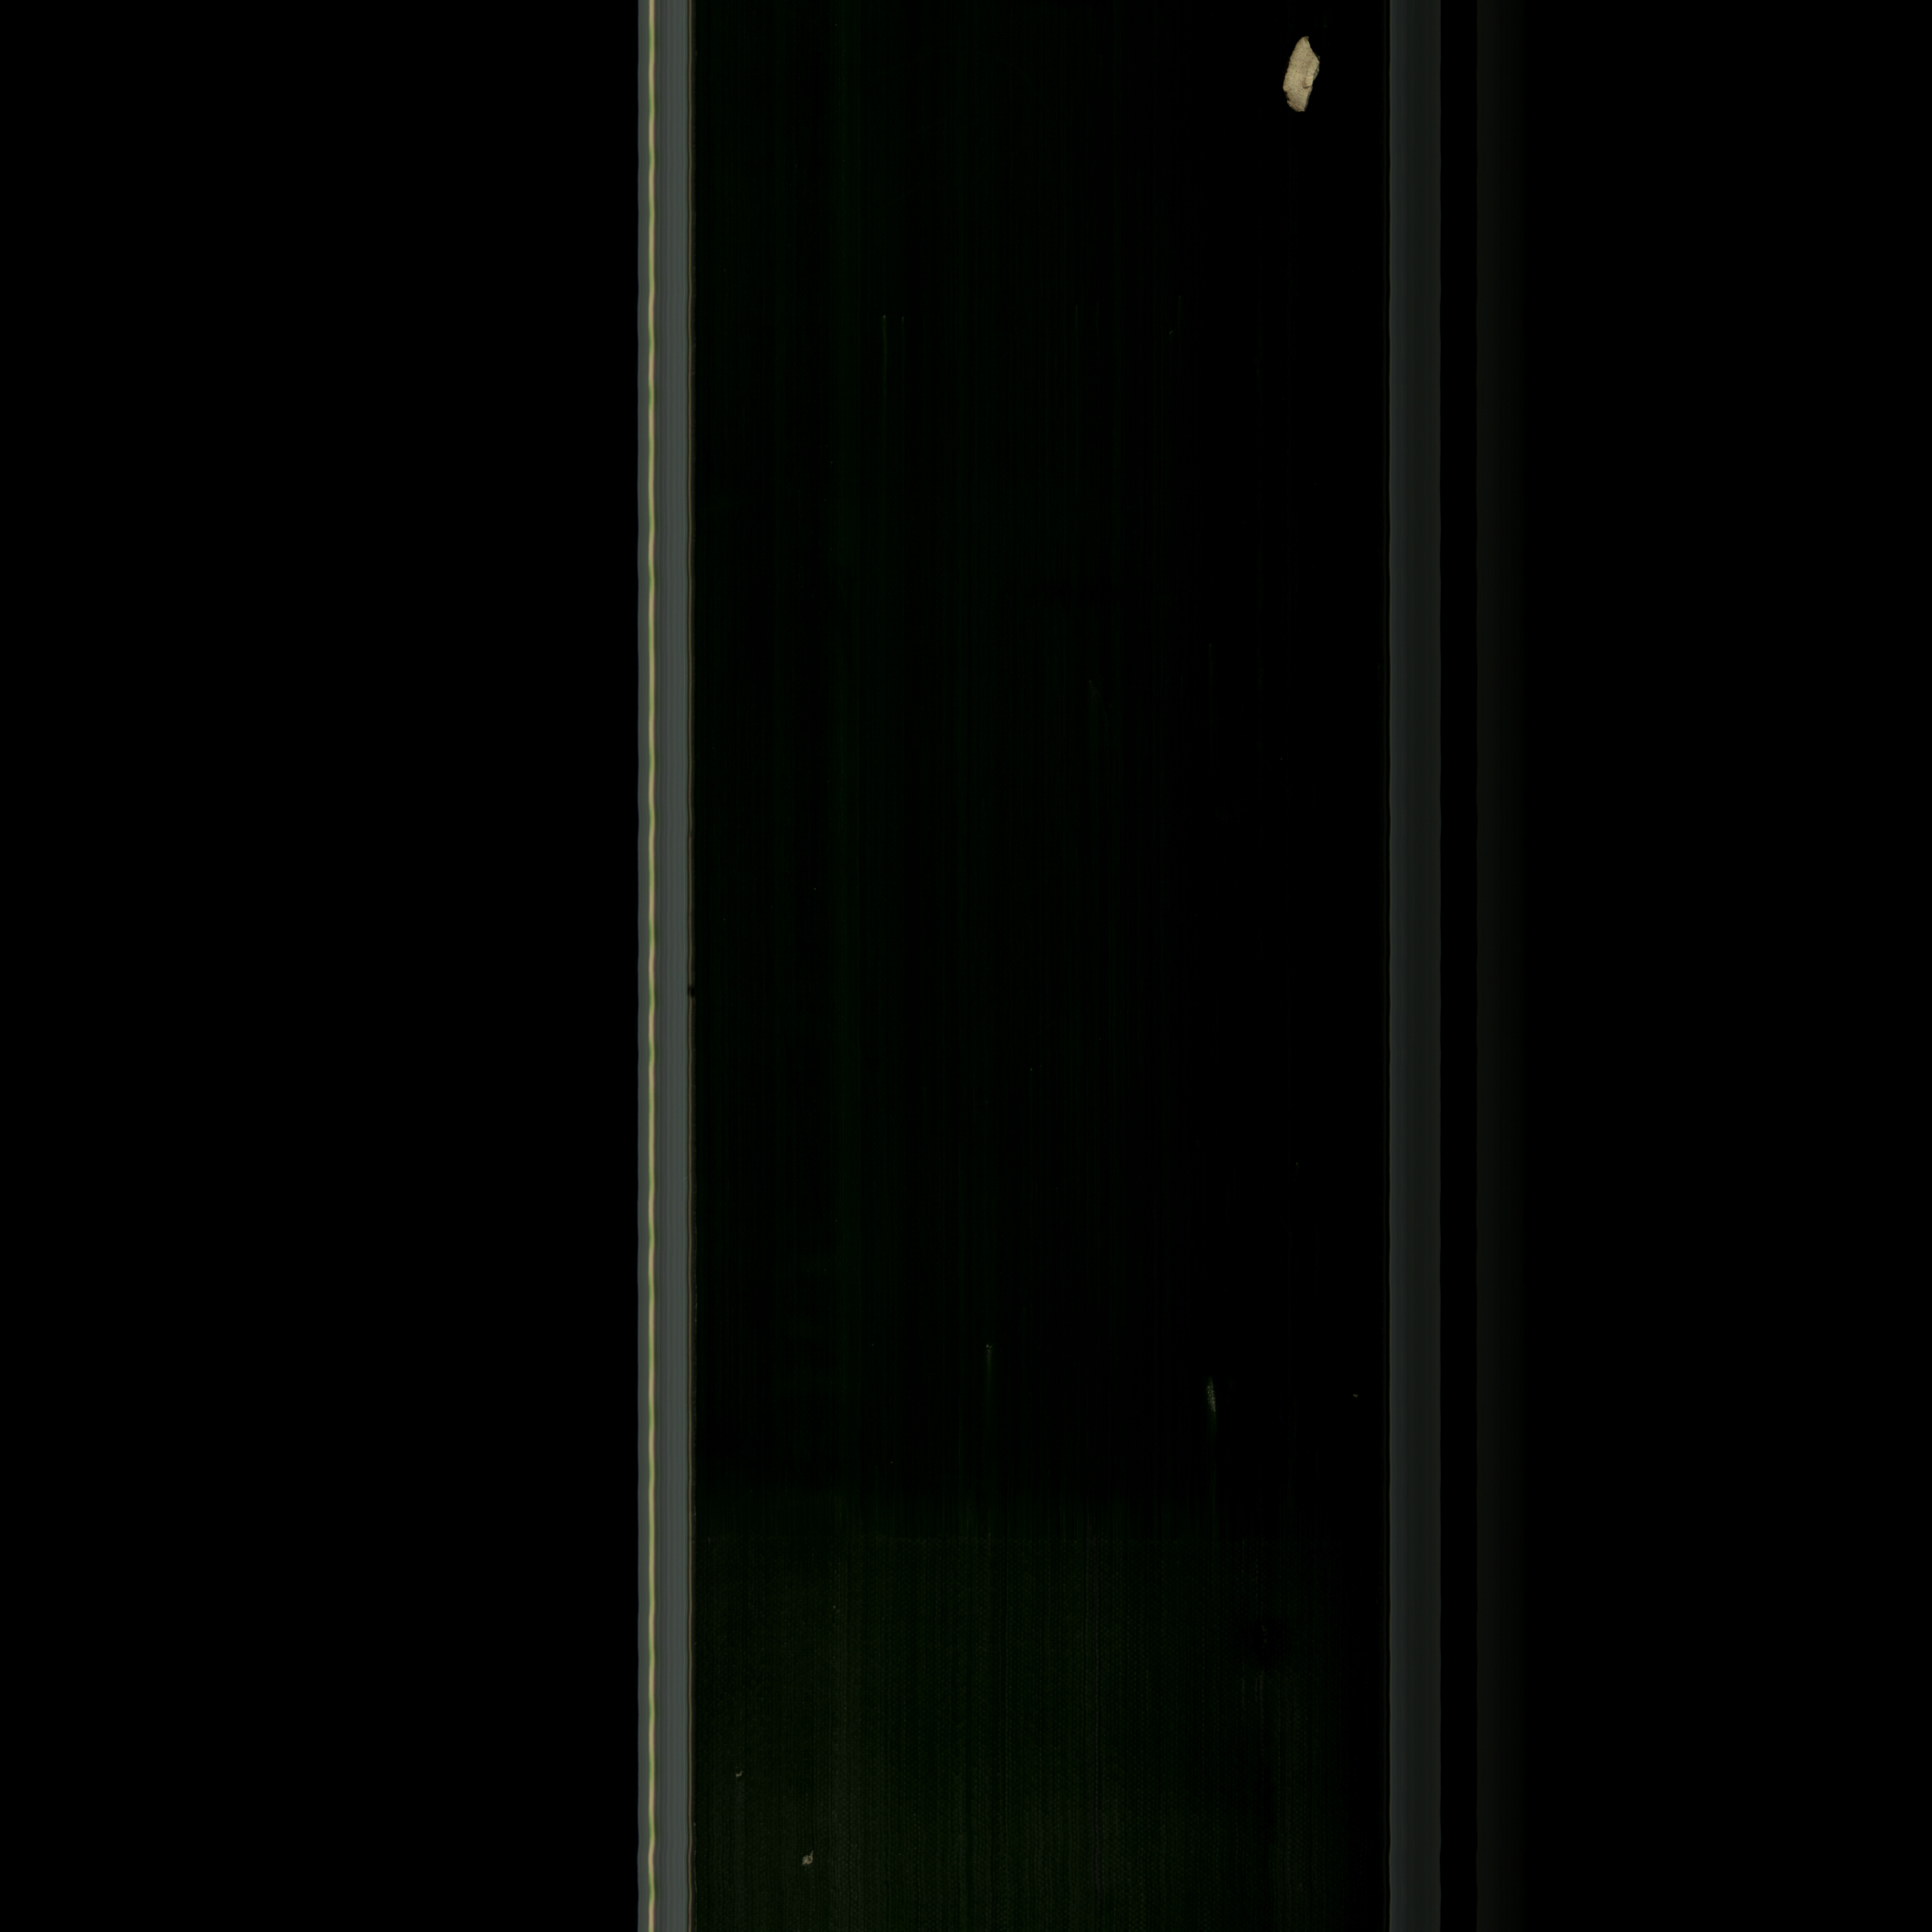debris: (1281, 35, 1323, 115)
